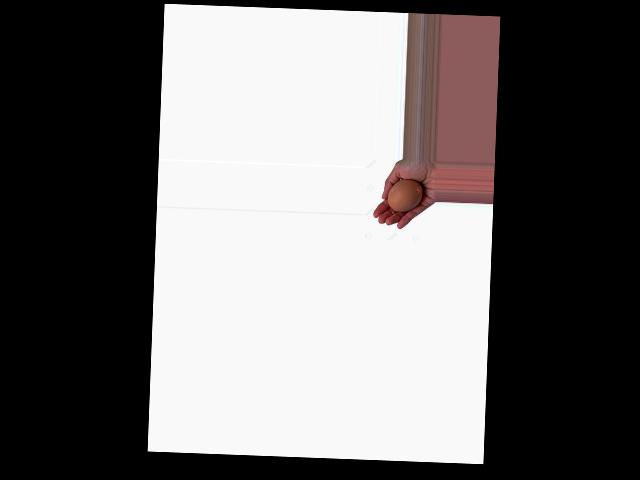egg: (387, 178, 423, 213)
